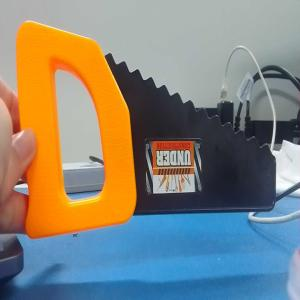serrote: (27, 20, 278, 241)
